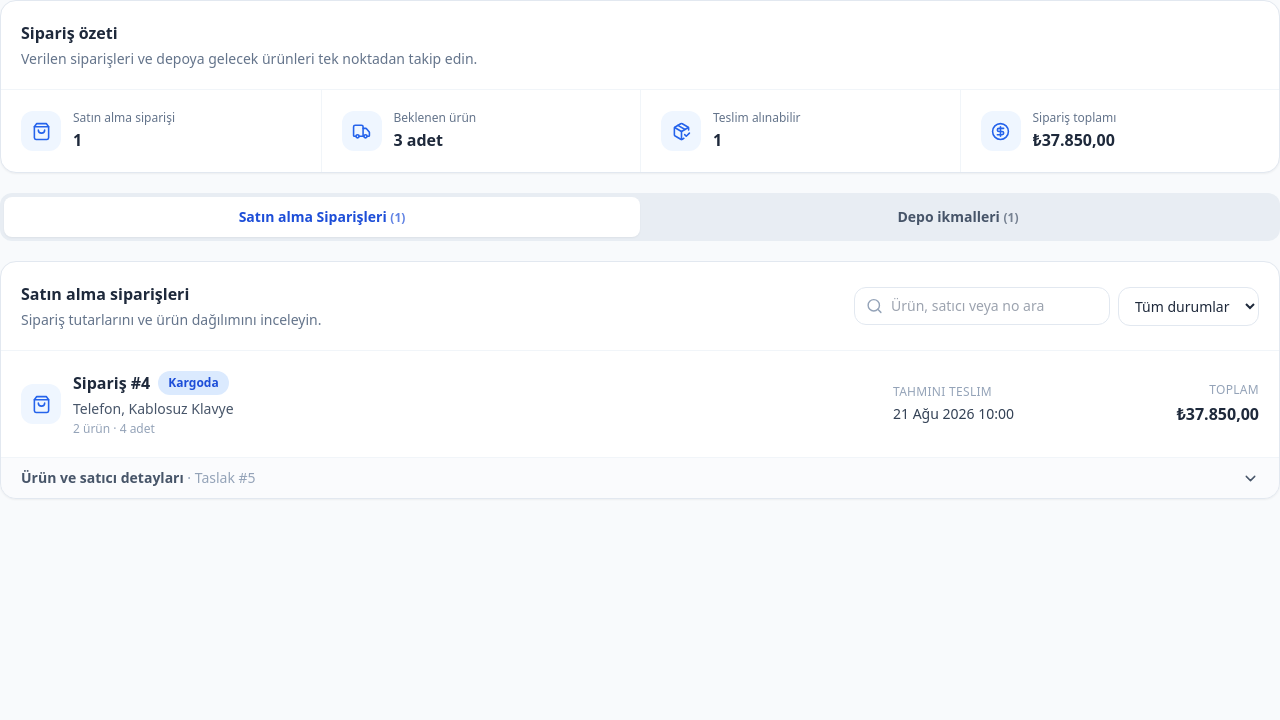
Scenario: orders page navigation and filters › iki süreci sekmelerle ayırır ve sekme değişince filtreyi sıfırlar
Check: the text "Sipariş #4" is shown, box [73, 371, 150, 395]
Type "ElectroShop" into the field named "Siparişlerde ara" at (982, 306), box [854, 286, 1110, 324]
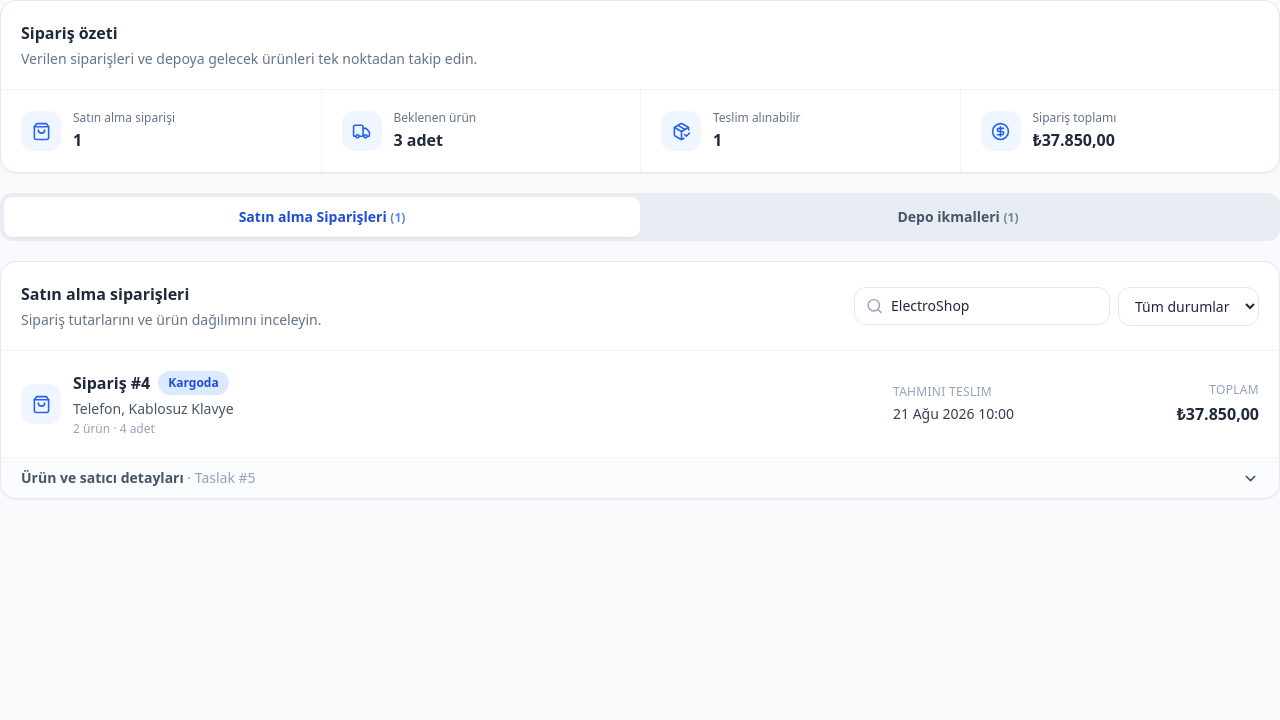
Check: the text "Sipariş #4" is shown, box [73, 371, 150, 395]
Click the tab "Depo ikmalleri (1)" at (958, 217), box [640, 197, 1276, 237]
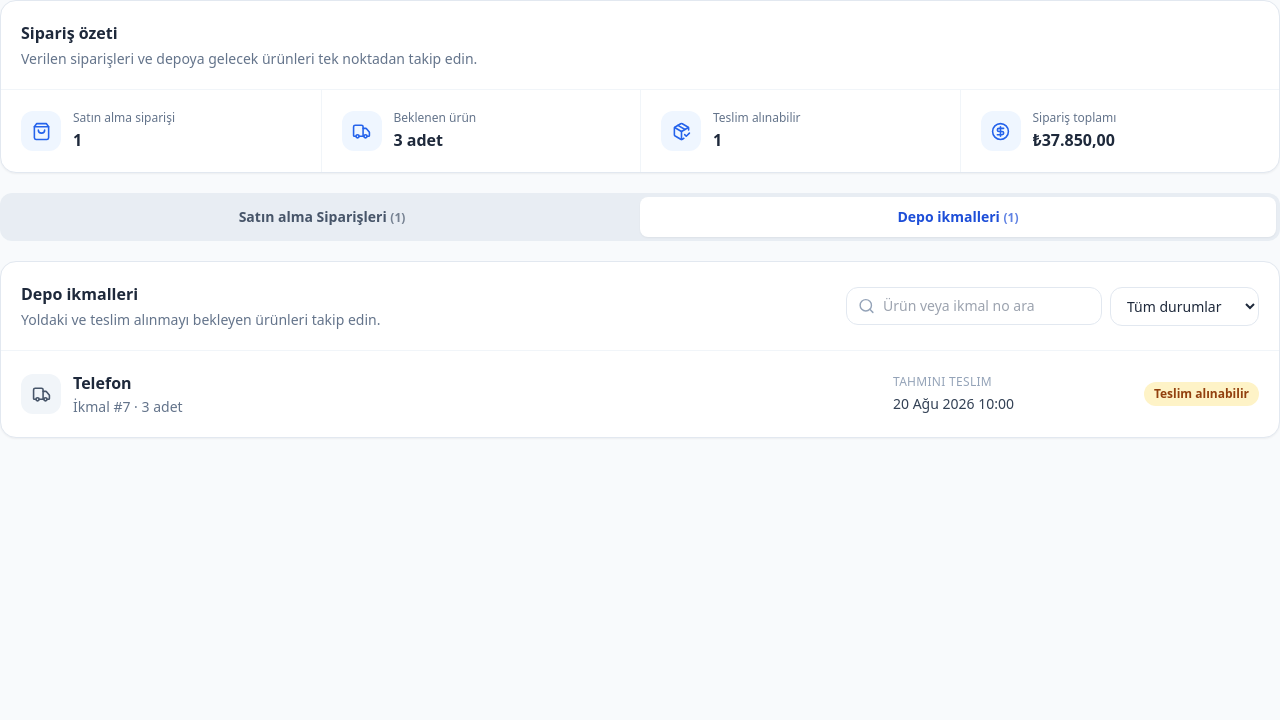
Check: the field named "Siparişlerde ara" is empty, box [846, 286, 1102, 324]
Check: the text "İkmal #7 · 3 adet" is shown, box [73, 397, 183, 417]
Check: the text "Sipariş #4" is gone
